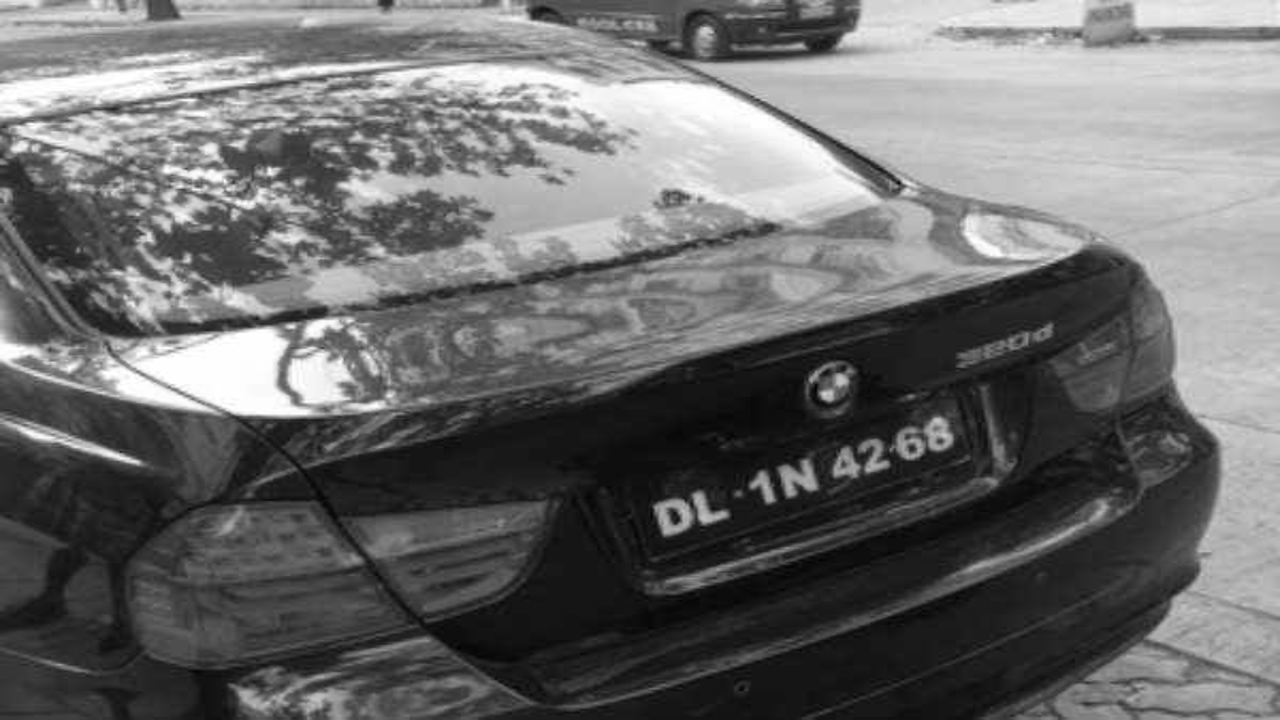license: (623, 385, 977, 582)
